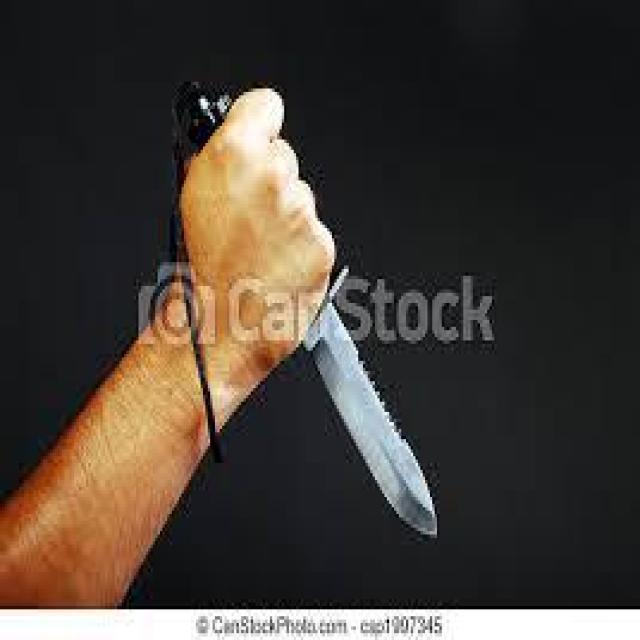faca: (152, 48, 456, 576)
